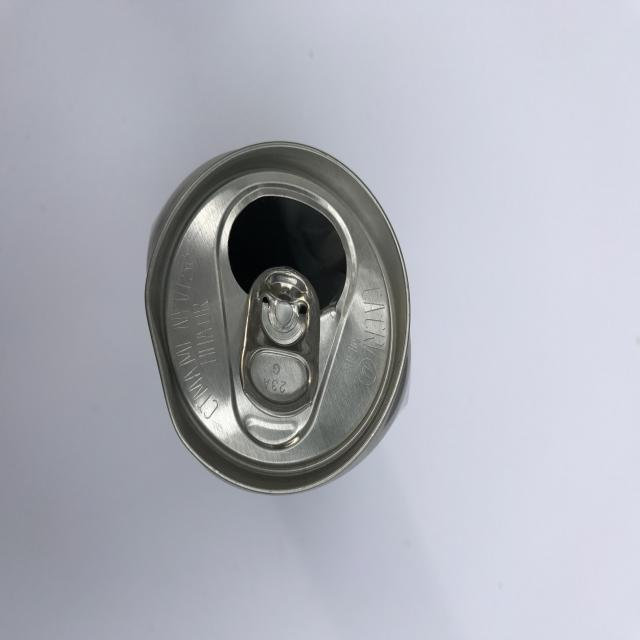metal: (144, 139, 411, 496)
